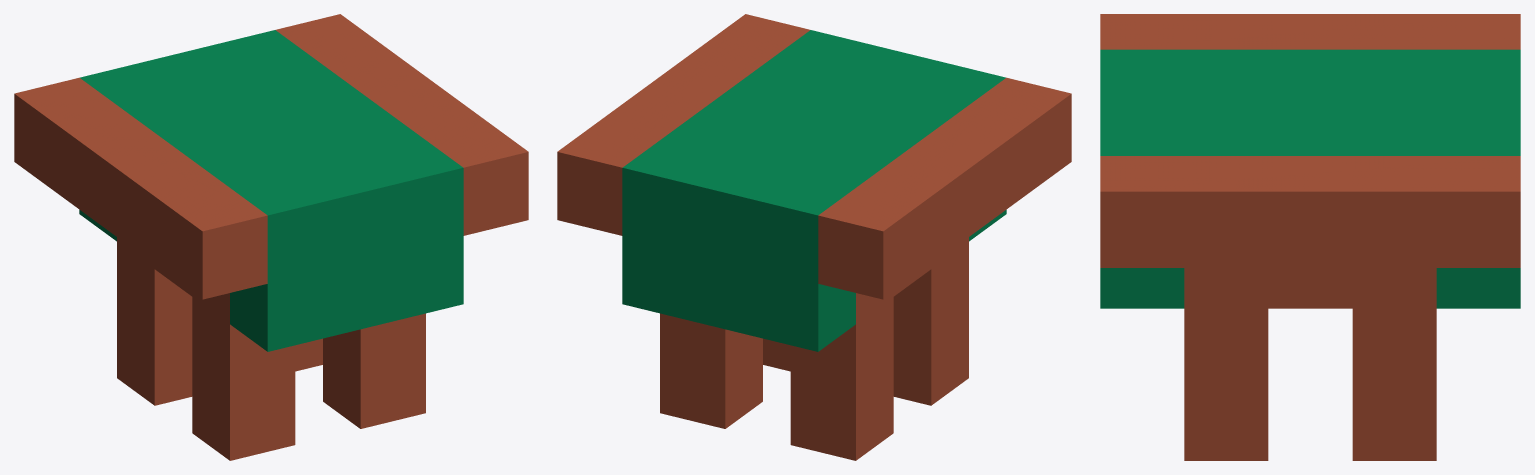
File: small_bench_a_green.obj
3 renders of one model, left to right at view 1: azimuth 30°, elevation 25°; view 2: azimuth 150°, elevation 25°; view 3: azimuth 270°, elevation 25°, orthographic. The views are drawn at different scales.
Bounding box in the file's own units: 0.5 × 0.4 × 0.5.
Materials: 1 (1 with a texture image).
